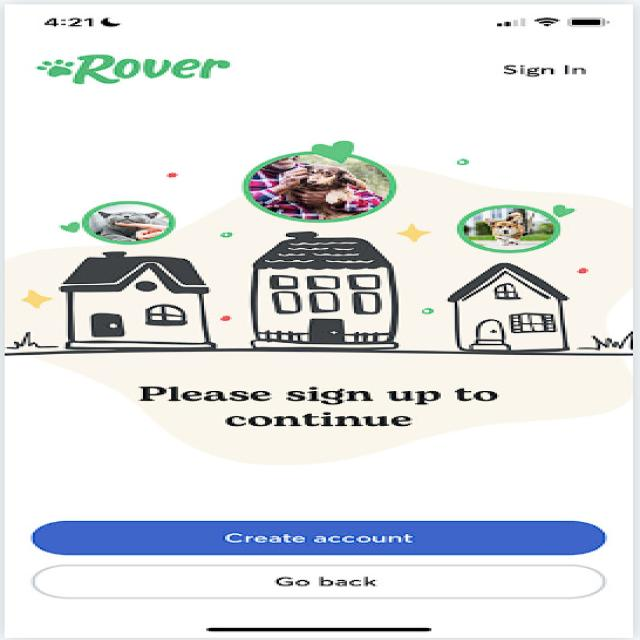button: (21, 512, 617, 561), (18, 560, 622, 607)
image: (6, 104, 640, 482)
text: (496, 56, 610, 82)
